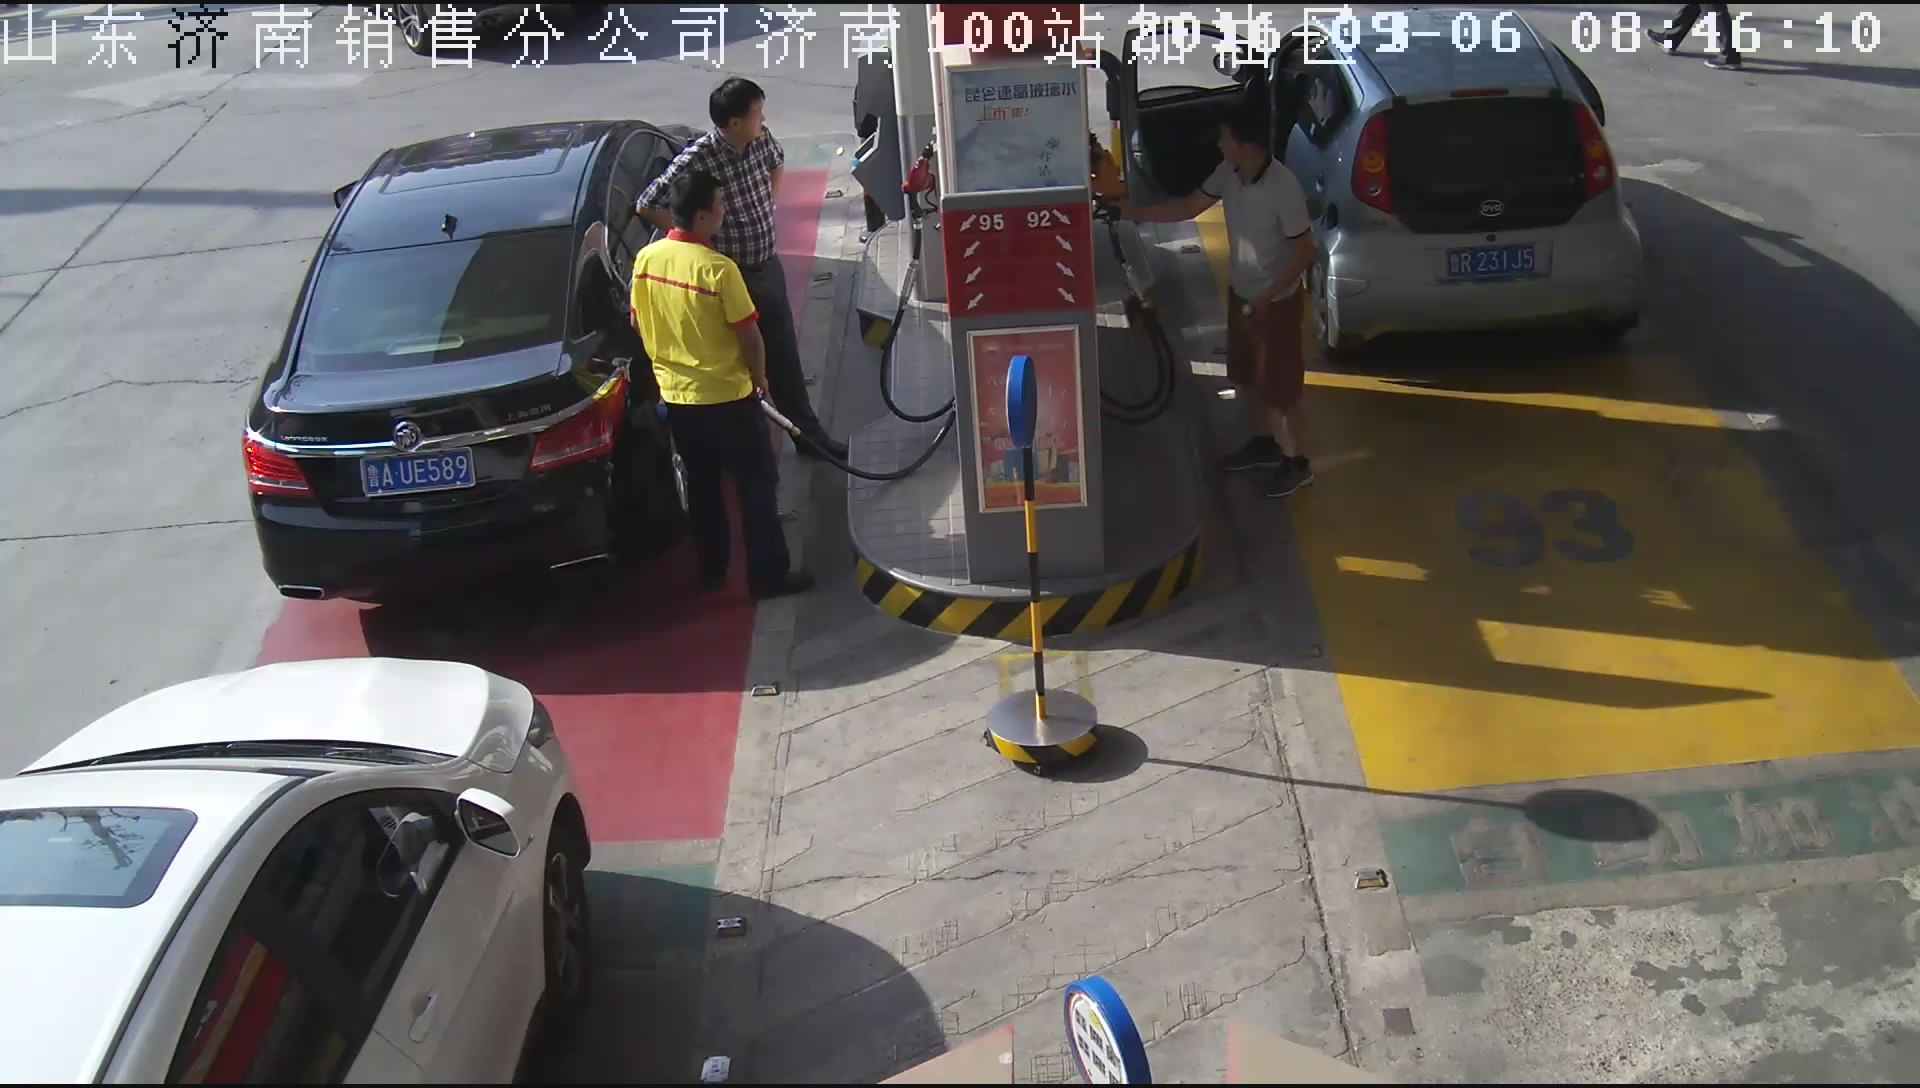blue: (357, 444, 477, 500), (1445, 244, 1538, 286)
